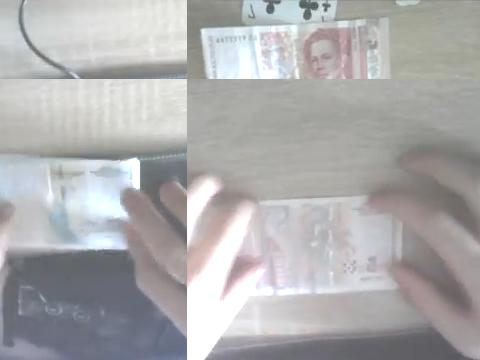20leva: (0, 151, 187, 250)
5leva: (253, 196, 403, 296), (231, 21, 380, 79)
